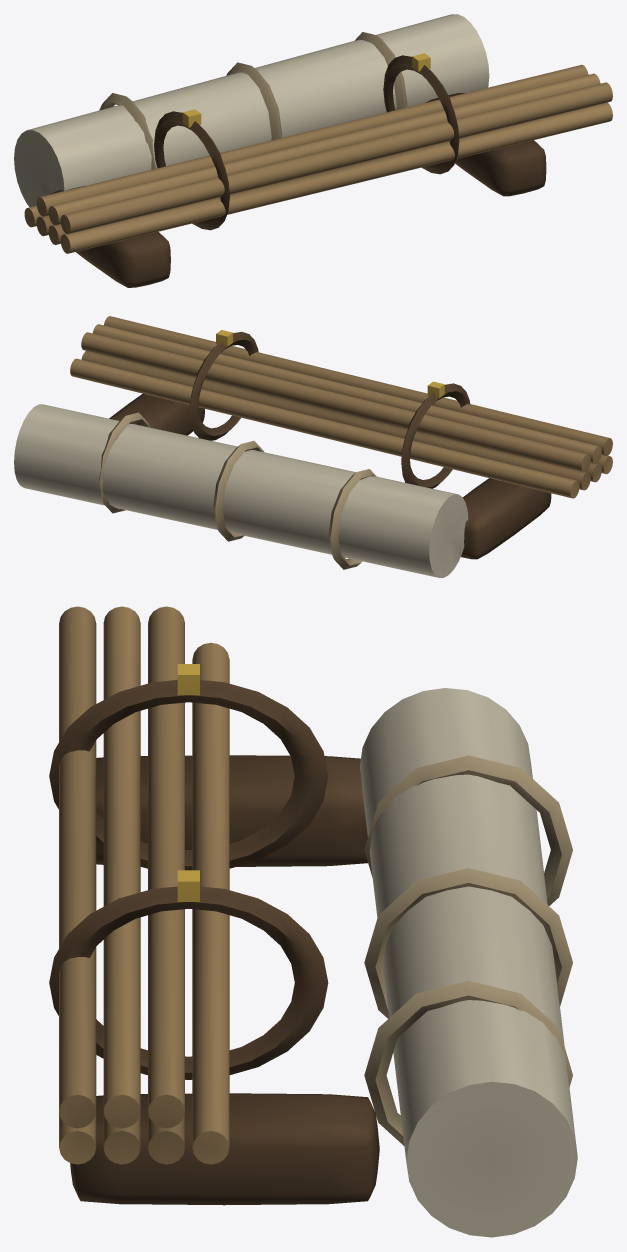
The model's file is spar_bundle_a.glb.
The picture shows the model from 3 angles, top to bottom: view 1: azimuth 30°, elevation 25°; view 2: azimuth 150°, elevation 25°; view 3: azimuth 270°, elevation 25°; orthographic projection. The views are drawn at different scales.
Parts seen in each view (by area): view 1: Surface; view 2: Surface; view 3: Surface.
Boxes of the visible parts, x1=… form: Surface: x1=14, y1=14, x2=612, y2=287; Surface: x1=14, y1=316, x2=612, y2=577; Surface: x1=49, y1=606, x2=577, y2=1237.
Bounding box in the file's own units: 2.6 × 0.66 × 1.19.
